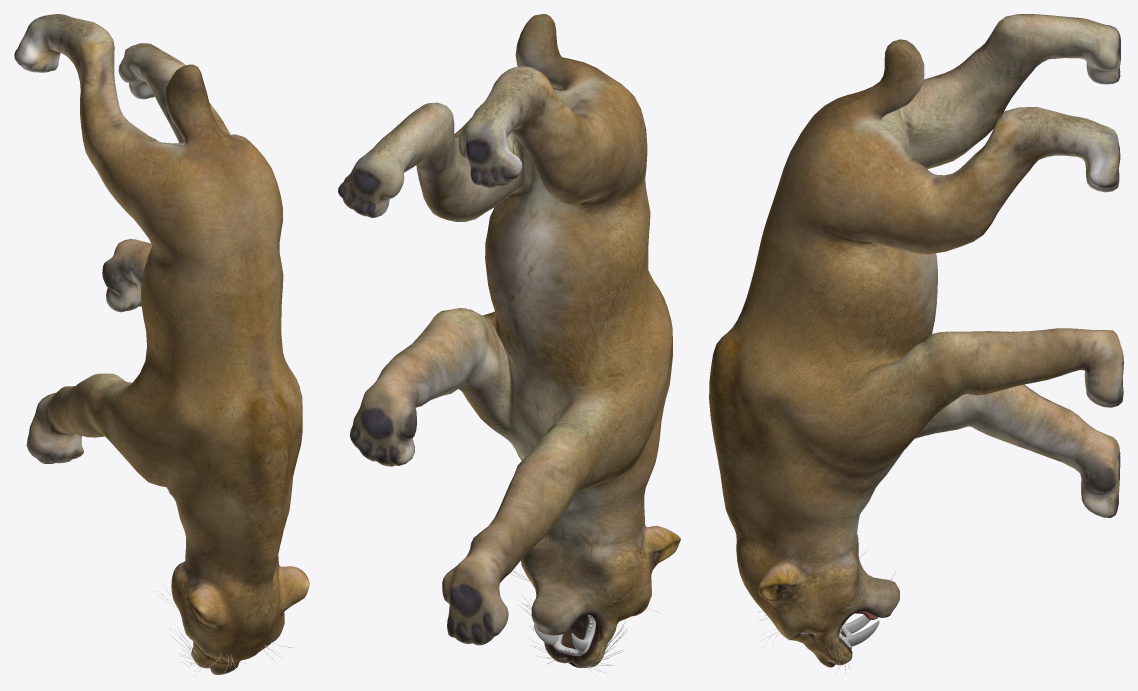
The model's file is SabertoothModel.fbx.
3 views of the same model, side by side, from view 1: azimuth 30°, elevation 25°; view 2: azimuth 150°, elevation 25°; view 3: azimuth 270°, elevation 25° (orthographic). The views are drawn at different scales.
Parts seen in each view (by area): view 1: 12230_smilodon_v1_l2; view 2: 12230_smilodon_v1_l2; view 3: 12230_smilodon_v1_l2.
Boxes of the visible parts, <box> form: 12230_smilodon_v1_l2: <box>14,14,309,675</box>; 12230_smilodon_v1_l2: <box>338,14,680,676</box>; 12230_smilodon_v1_l2: <box>709,14,1123,675</box>.
Bounding box in the file's own units: 4764 × 17464 × 10427.
